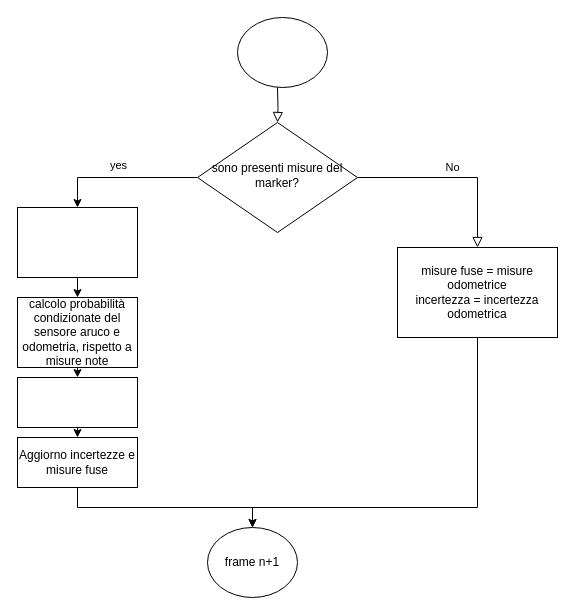
This 575x615 diagram has some shape labels left out. The centre of each missing label's shape, as x and y in pixels:
"fisso la prior sulle misure: x(n) = x(n-1) + v+dt" belongs at [77,242].
"frame n" belongs at [282,52].
"likelihood e P( X | Z )" belongs at [77,402].
